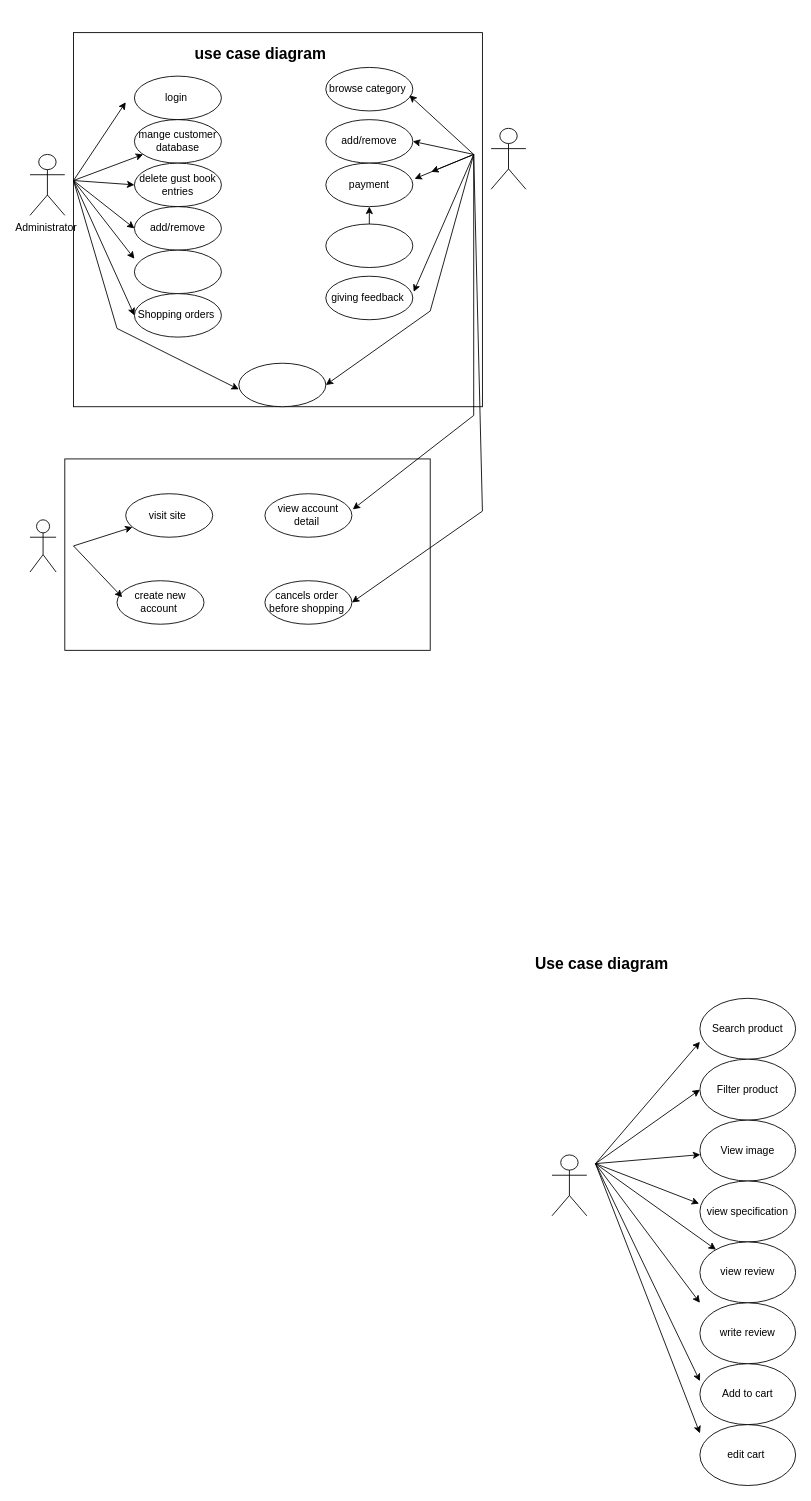
Some shapes in this 811 by 1501 pixel diagram are drawn without their labels. The box of each missing label's shape, as (x1, y1, x2, y2) in pixels:
Actor: (29, 519, 56, 572)
approve reject shop creation request: (134, 249, 221, 294)
cash: (325, 223, 413, 268)
Customer: (490, 127, 526, 189)
logout: (238, 362, 326, 407)
user: (551, 1154, 587, 1216)
